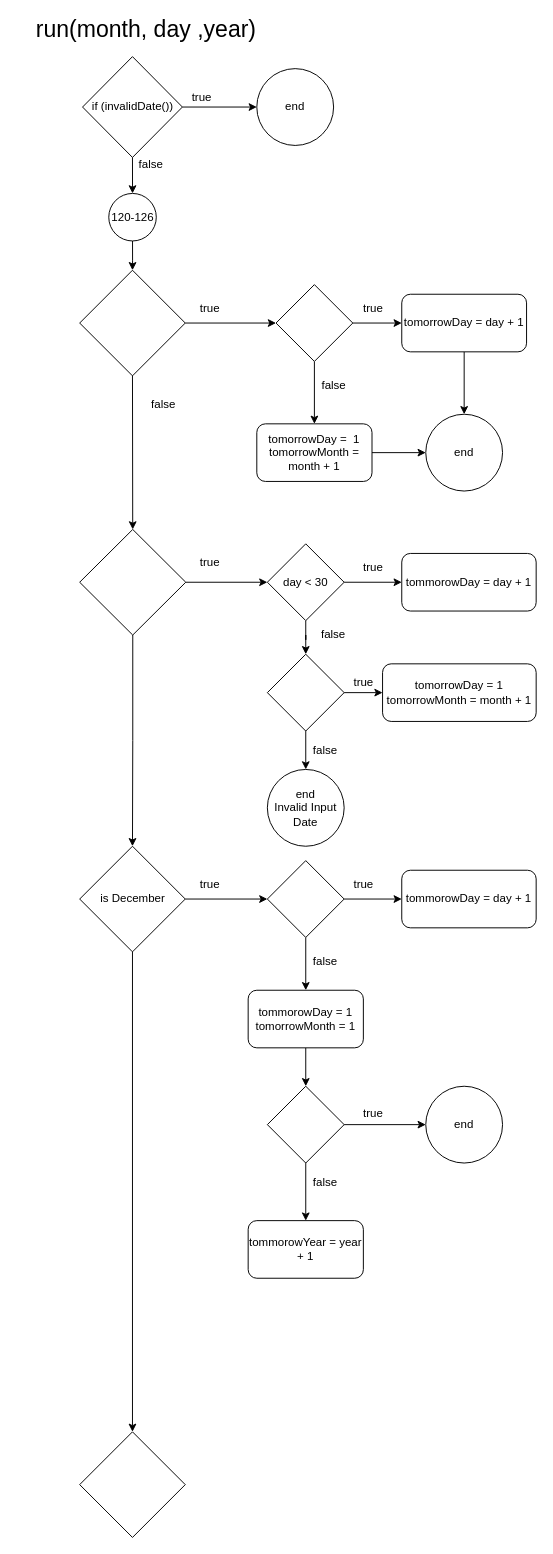
This 553x1554 diagram has some shape labels left out. Here are the shapes that lost their labels. From the top down, the box of each, then its label:
(79, 269, 185, 376): isThirtyOneDay Month(month)
(275, 284, 353, 361): if day < 31
(79, 528, 186, 635): isThirtyDayMonth
(266, 653, 344, 731): day = 30
(266, 860, 344, 937): day <= 31
(266, 1085, 344, 1163): year = 2021
(79, 1431, 185, 1537): is February
